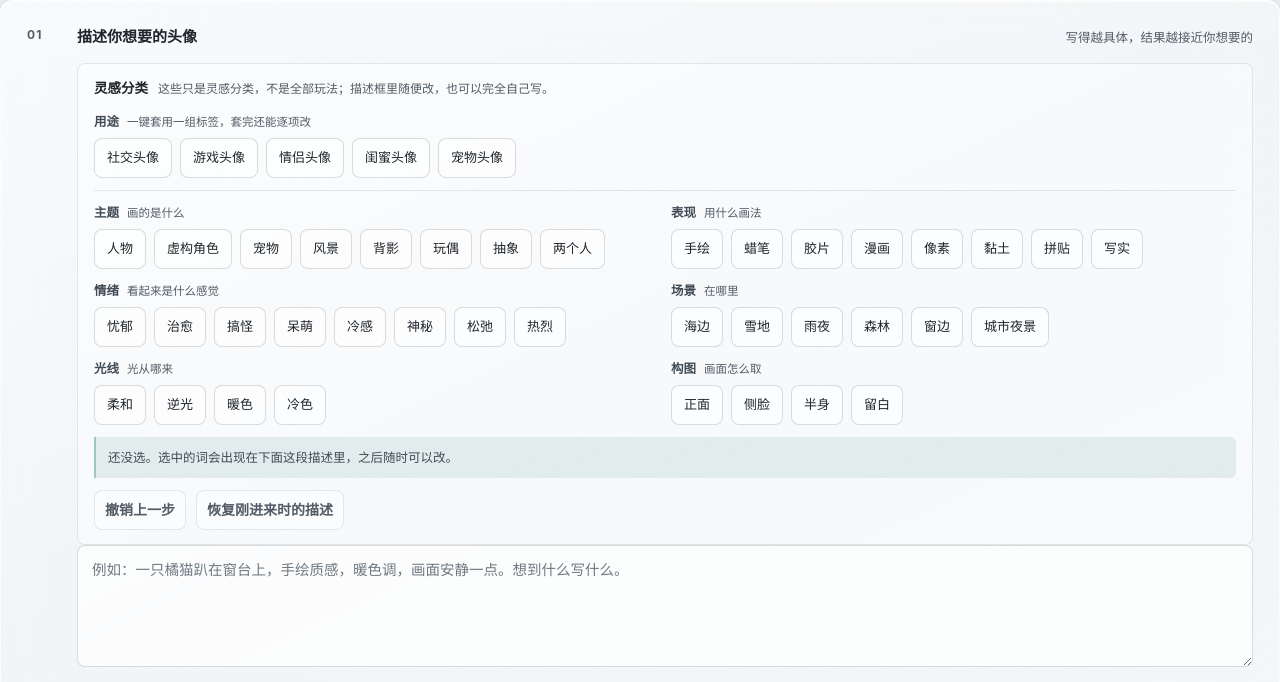
it: 创作台的灵感分类 › 空描述时点标签生成整段描述，并且只改描述框
The width and height of the screenshot is (1280, 682).
Click the button "宠物" at (266, 249), box x1=240 y1=229 x2=292 y2=269
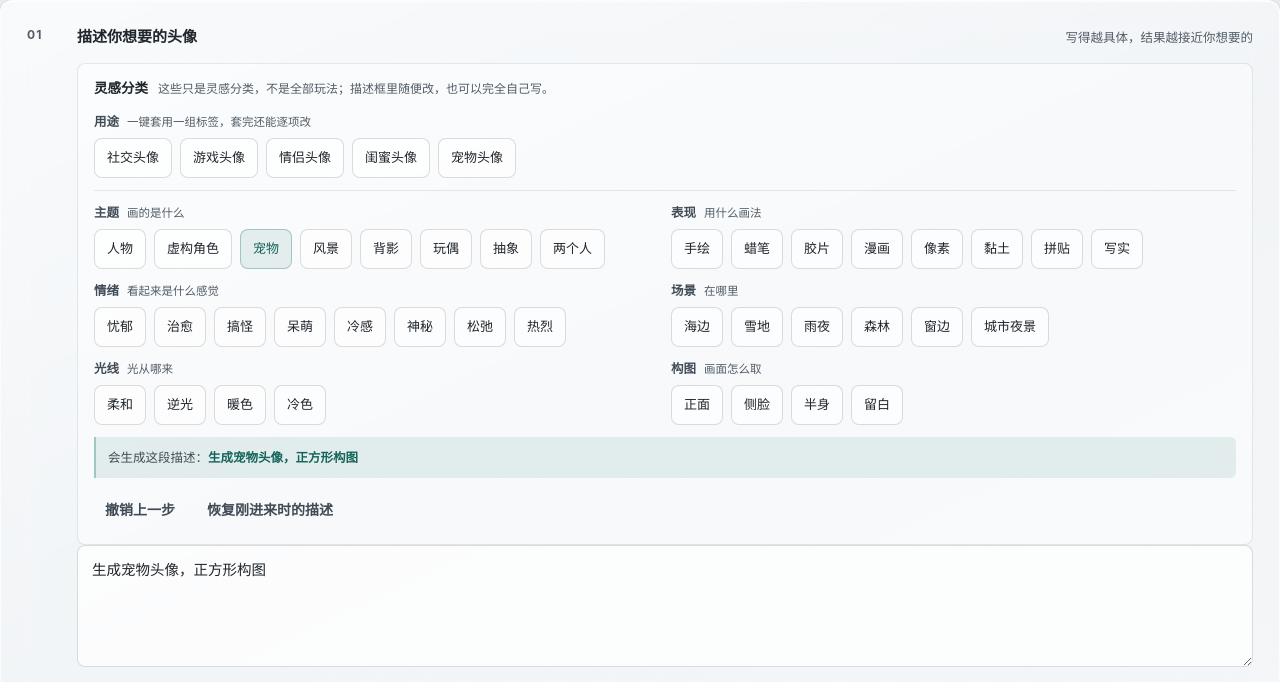
expect the text box holds "生成宠物头像，正方形构图": met, box x1=77 y1=545 x2=1253 y2=666
